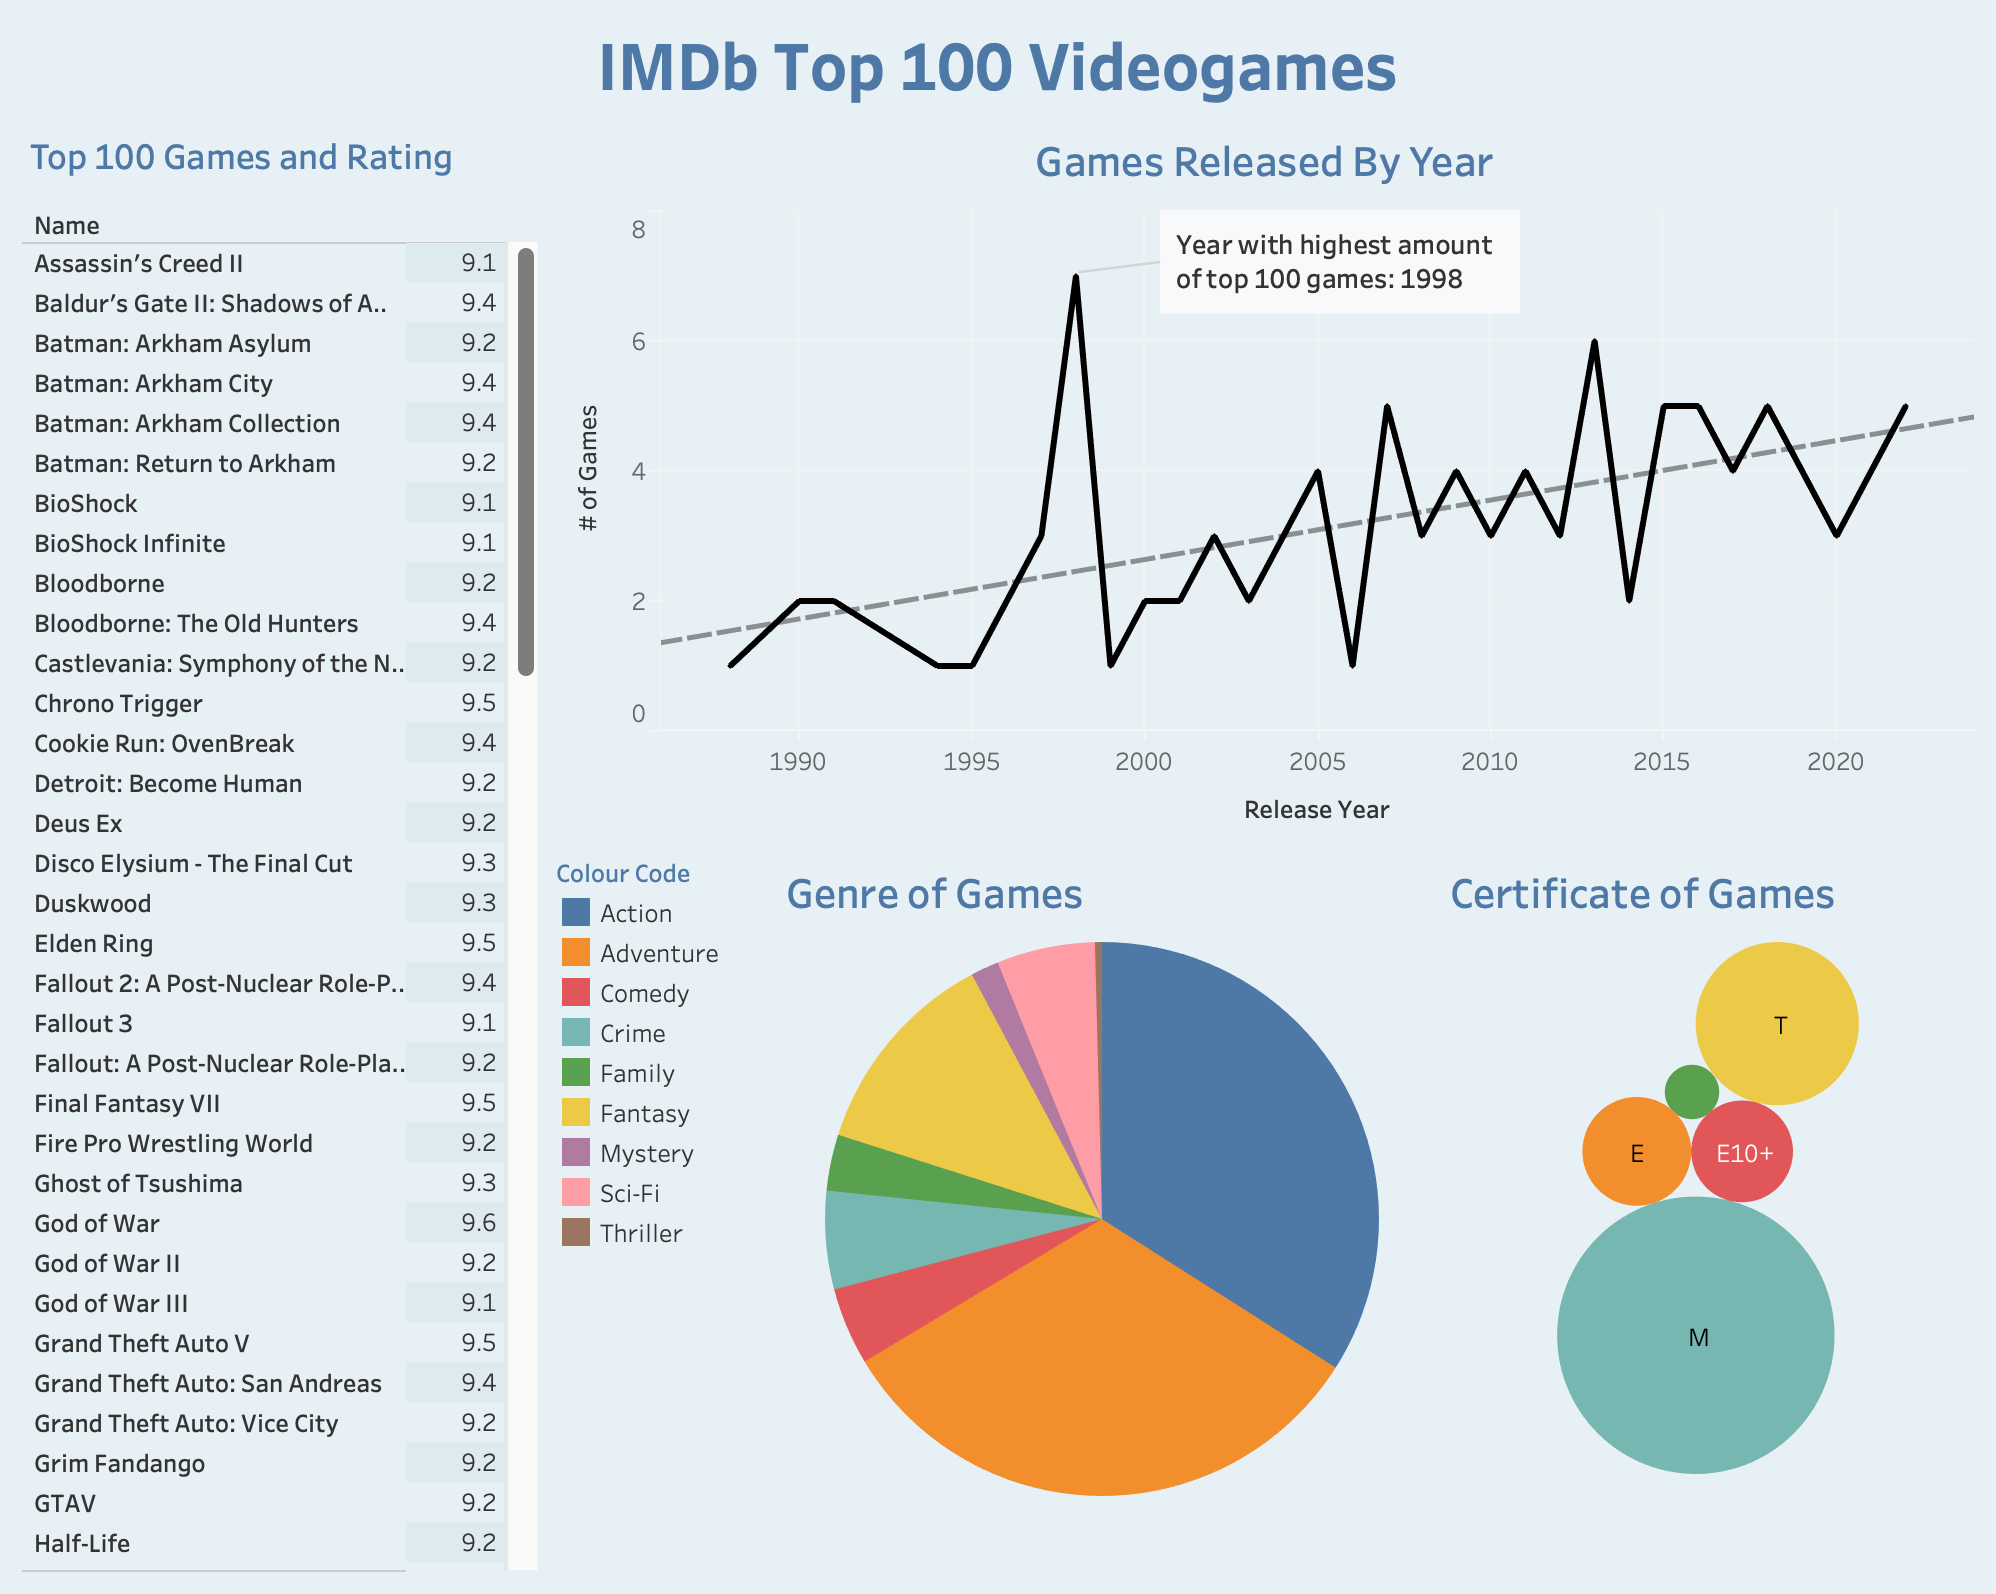

What the dashboard file says about the page in this screenshot:
{"tool":"tableau","page":{"name":"Dashboard 1","canvas":[1000,800],"ordinal":0},"visuals":[{"type":"title","box":[8,8,984,52]},{"type":"worksheet","title":"Sheet 3","mark":"Automatic","rows":["name"],"box":[8,60,267,732]},{"type":"worksheet","title":"Sheet 1","mark":"Automatic","rows":["count"],"cols":["year"],"box":[275,60,717,366]},{"type":"legend","title":"Sheet 2","param":"[federated.15yn3oi02cpxe91dry86b1oki1s7].[none:Pivot Field Names:nk]","box":[275,426,111,366]},{"type":"worksheet","title":"Sheet 2","mark":"Pie","box":[386,426,332,366]},{"type":"worksheet","title":"Sheet 4","mark":"Circle","box":[718,426,274,366]}]}

Visuals, with their boxes in screenshot pixels (x1, y1, x2, y2), scaled from the page's 1000x800 canvas onto the 1996x1594 screenshot:
title: pyautogui.locateOnScreen(16, 16, 1980, 120)
"Sheet 3" worksheet: pyautogui.locateOnScreen(16, 120, 549, 1578)
"Sheet 1" worksheet: pyautogui.locateOnScreen(549, 120, 1980, 849)
"Sheet 2" legend: pyautogui.locateOnScreen(549, 849, 770, 1578)
"Sheet 2" worksheet (Pie marks): pyautogui.locateOnScreen(770, 849, 1433, 1578)
"Sheet 4" worksheet (Circle marks): pyautogui.locateOnScreen(1433, 849, 1980, 1578)
